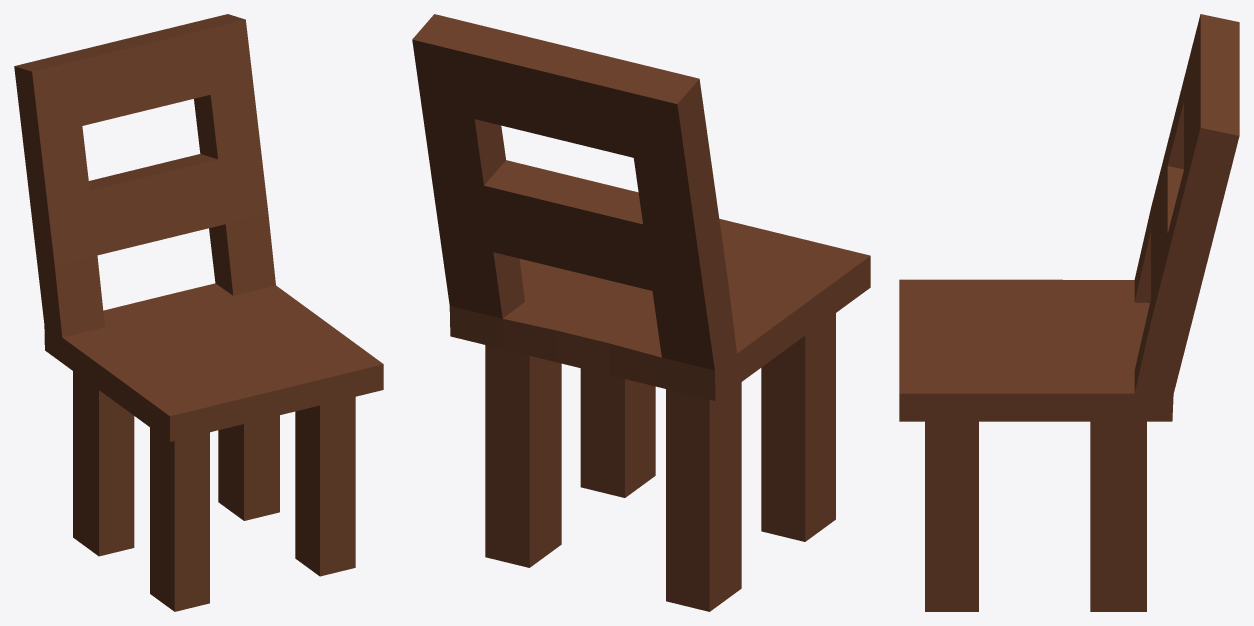
The model's file is Chair.fbx.
3 views of the same model, side by side, from view 1: azimuth 30°, elevation 25°; view 2: azimuth 150°, elevation 25°; view 3: azimuth 270°, elevation 25° (orthographic). The views are drawn at different scales.
Visible parts, largest first — view 1: Cube; view 2: Cube; view 3: Cube.
Boxes of the visible parts, x1,y1,x2,y2 form: Cube: [14, 14, 383, 611]; Cube: [412, 14, 870, 611]; Cube: [899, 14, 1239, 611].
Size of the model in its own units: 97.08 by 196 by 123.
